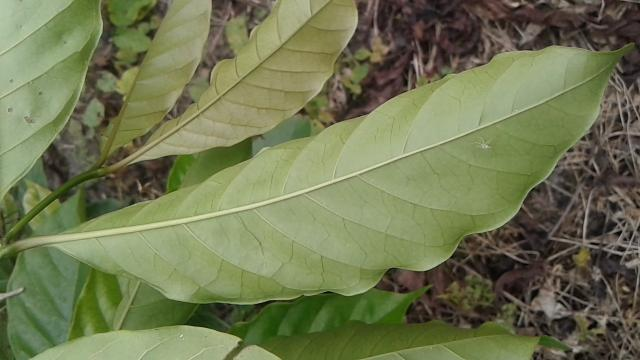healthy: (56, 40, 623, 307)
